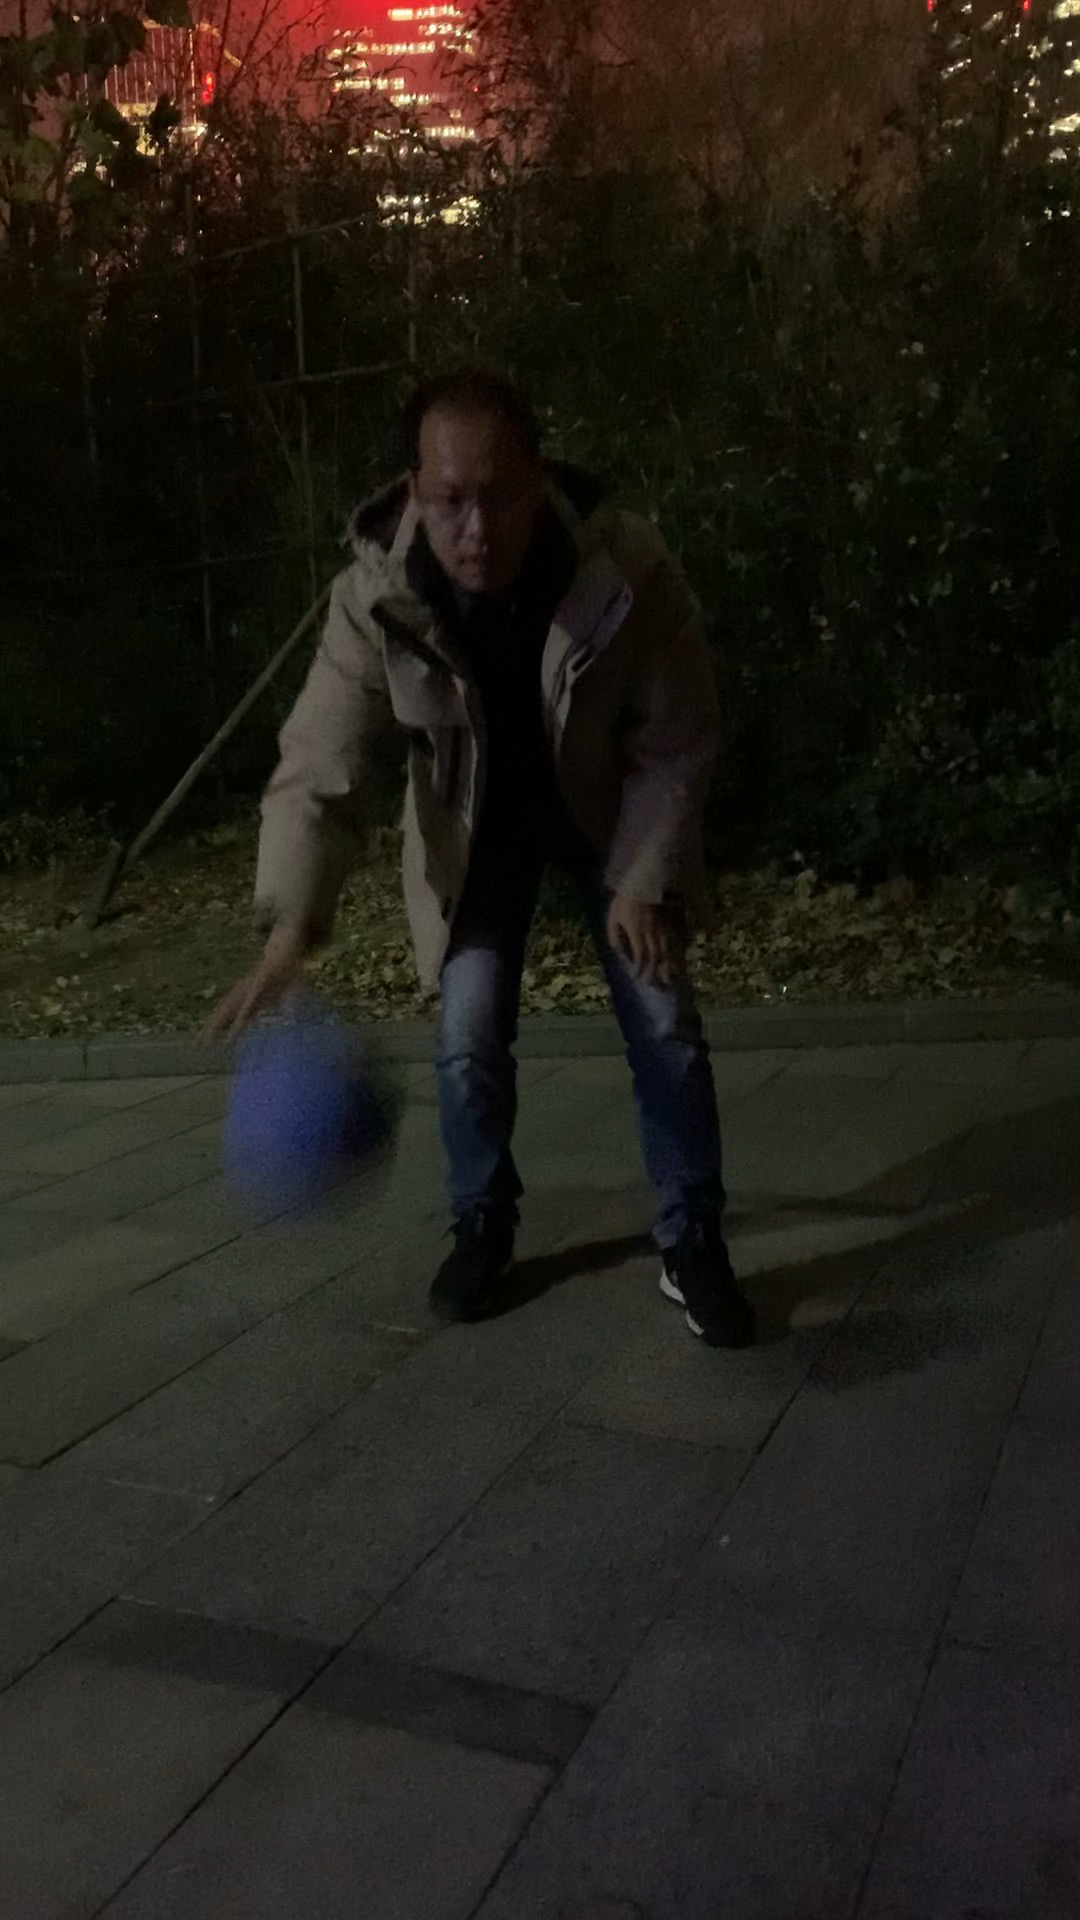ball: (204, 1033, 407, 1218)
